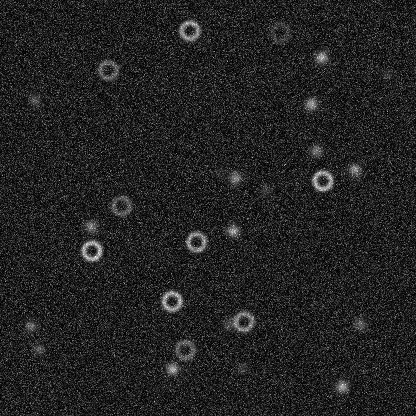Ring: (177, 18, 201, 42), (173, 337, 197, 361), (109, 193, 133, 217), (79, 238, 103, 262), (231, 309, 255, 333), (184, 229, 208, 253), (268, 20, 292, 44), (310, 168, 334, 192), (159, 288, 183, 312), (96, 58, 120, 82)
Spot: (234, 360, 250, 376), (307, 143, 323, 159), (30, 341, 46, 357), (225, 222, 241, 238), (346, 161, 362, 177), (212, 162, 228, 178), (164, 360, 180, 376), (82, 218, 98, 234), (220, 316, 236, 332), (26, 91, 42, 107), (227, 169, 243, 185), (352, 315, 368, 331), (333, 378, 349, 394), (257, 182, 273, 198), (313, 49, 329, 65), (378, 65, 394, 81), (22, 318, 38, 334), (303, 95, 319, 111)
